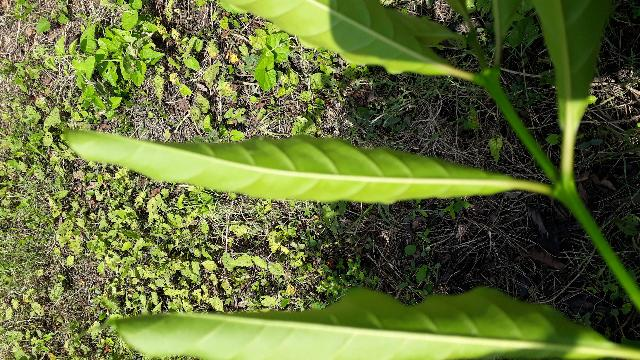healthy: (54, 124, 519, 207)
